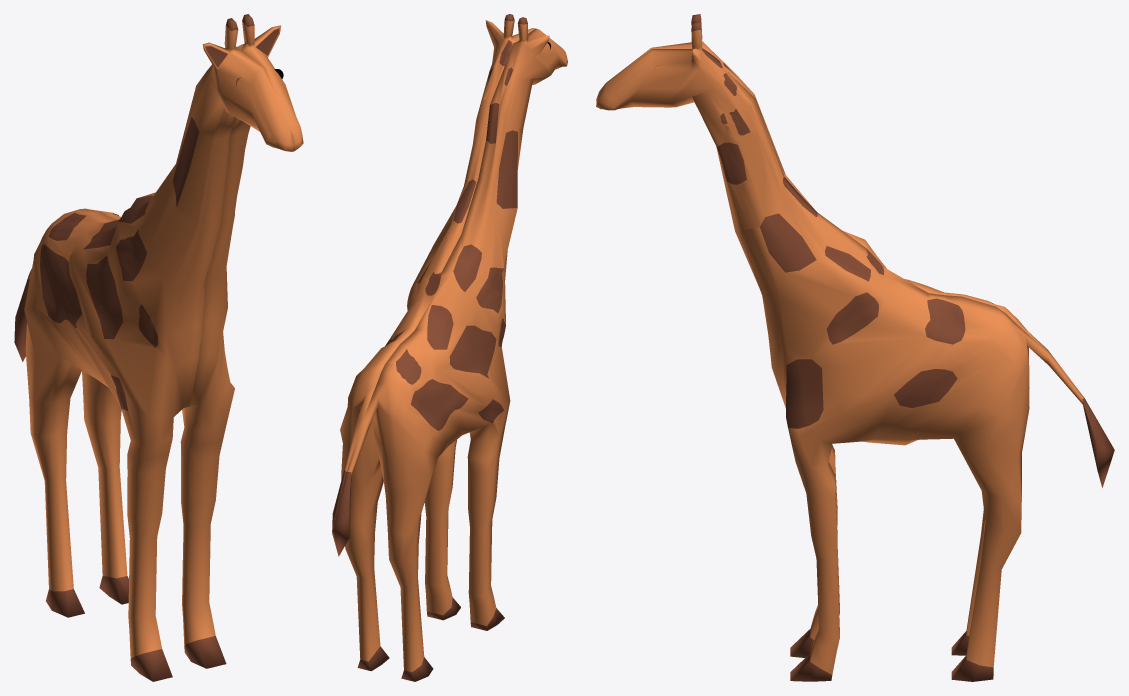
The model's file is girrafee.fbx.
3 renders of one model, left to right at view 1: azimuth 30°, elevation 25°; view 2: azimuth 150°, elevation 25°; view 3: azimuth 270°, elevation 25°, orthographic. The views are drawn at different scales.
Parts seen in each view (by area): view 1: Plane.013; view 2: Plane.013; view 3: Plane.013.
Boxes of the visible parts, box(x1,y1,x2,y2) form: Plane.013: box(14, 14, 303, 681); Plane.013: box(332, 14, 567, 681); Plane.013: box(596, 14, 1114, 681).
Bounding box in the file's own units: 1074 × 6760 × 4923.
